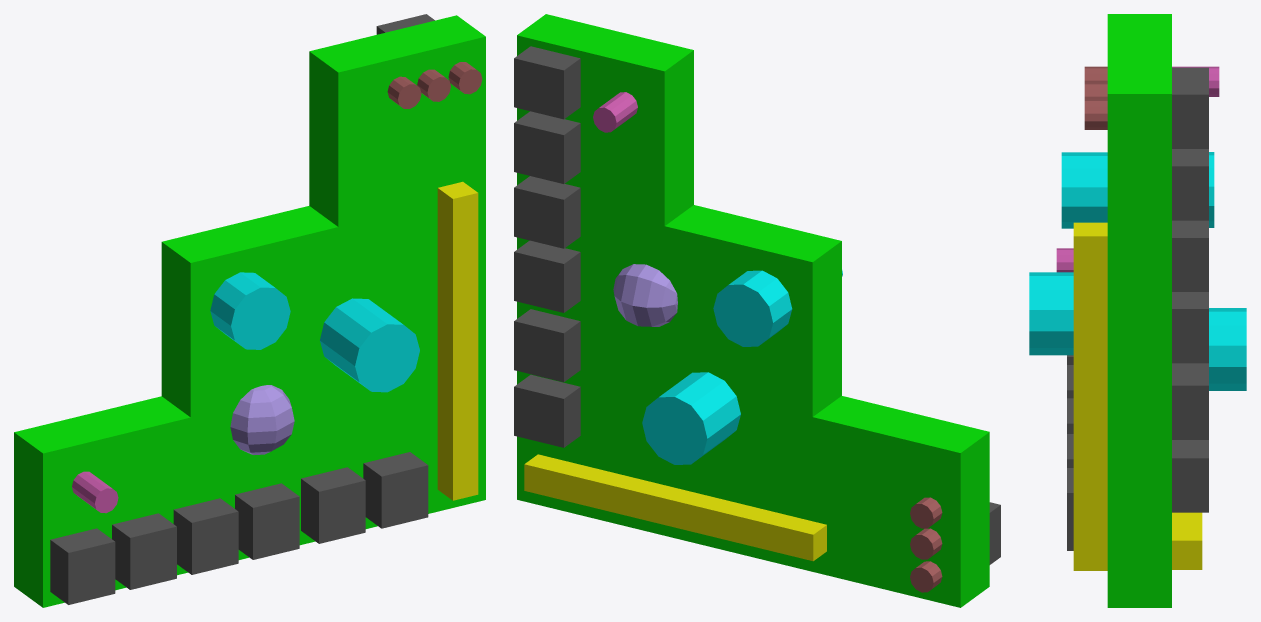
The model's file is Circuit.fbx.
The picture shows the model from 3 angles, left to right: view 1: azimuth 30°, elevation 25°; view 2: azimuth 150°, elevation 25°; view 3: azimuth 270°, elevation 25°; orthographic projection. The views are drawn at different scales.
Visible parts, largest first — view 1: pCube1; view 2: pCube1; view 3: pCube1.
Part boxes in pixels (x1,y1,x2,y2): pCube1: (14, 14, 485, 607); pCube1: (514, 14, 1000, 607); pCube1: (1029, 14, 1246, 607).
Size of the model in its own units: 50 by 19.14 by 50.
